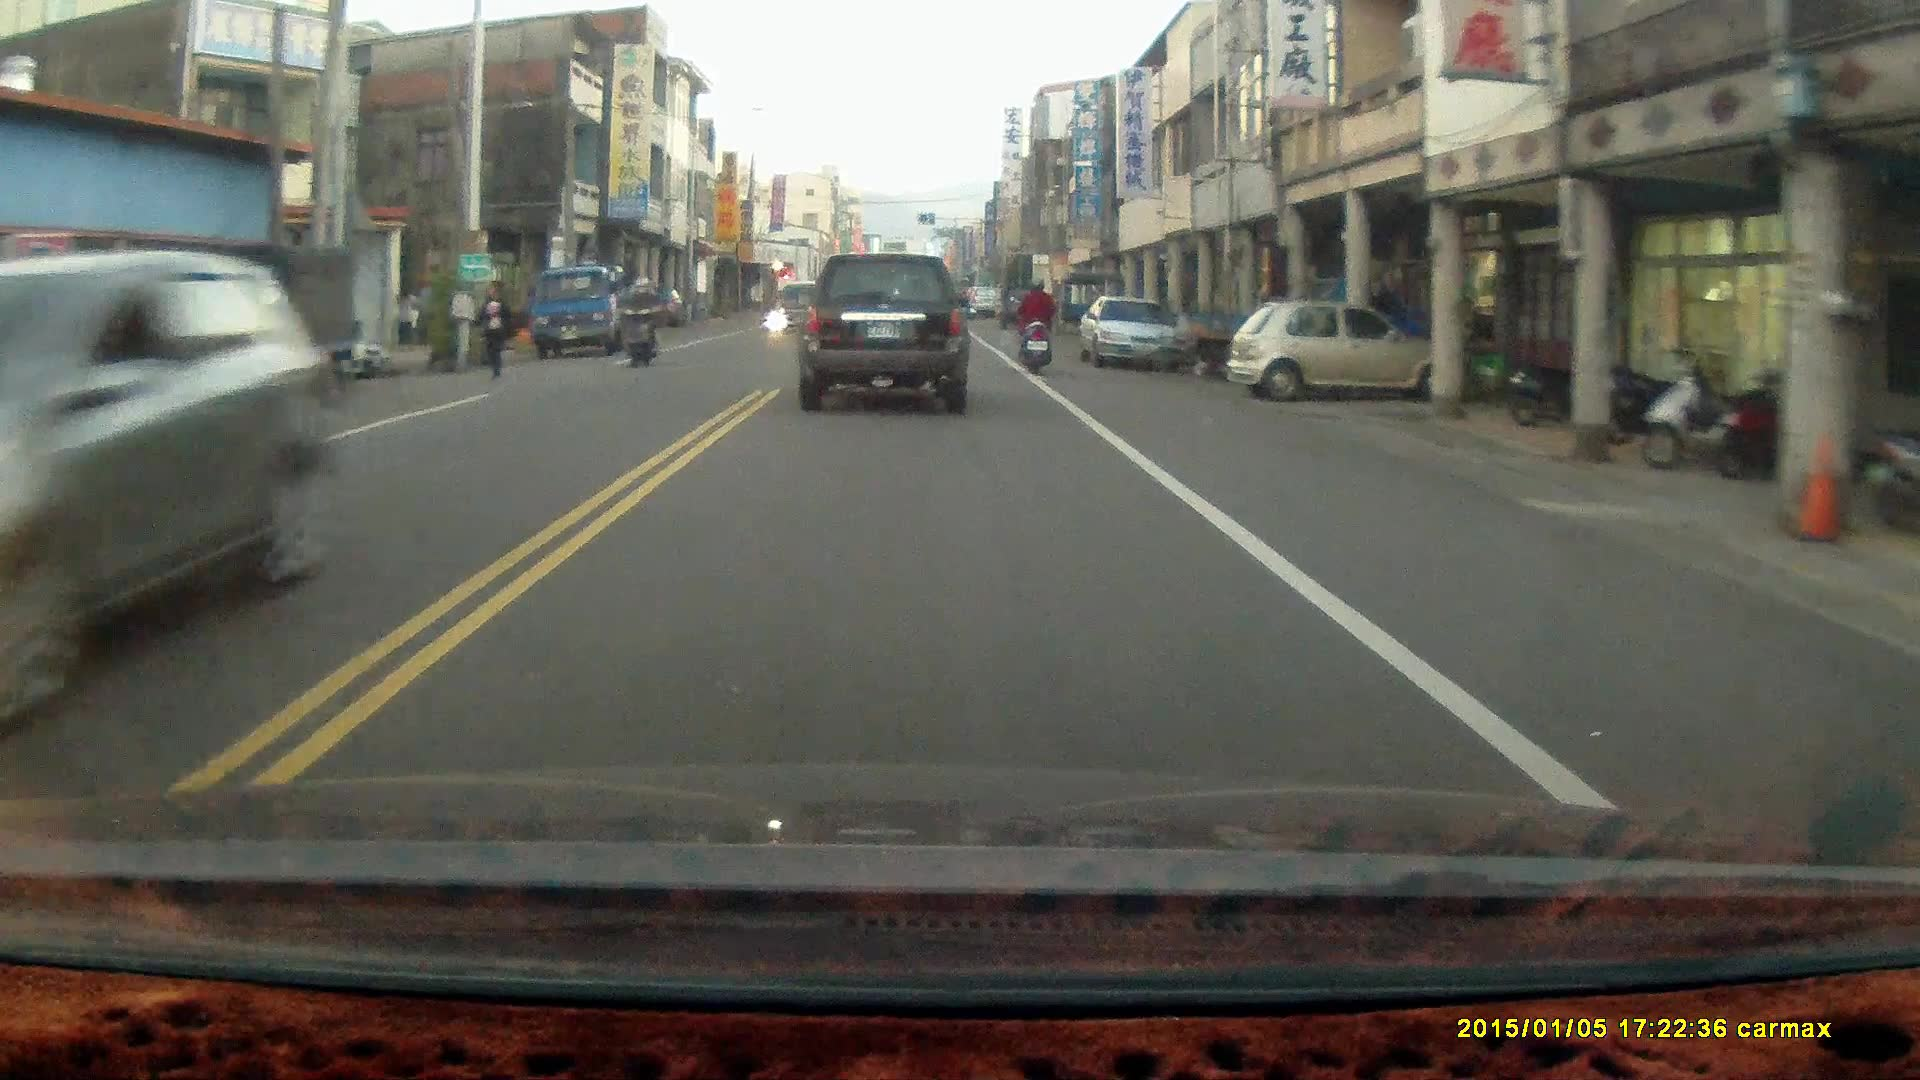pedestrian: (477, 278, 517, 381)
rider: (616, 275, 663, 367), (1015, 274, 1054, 372)
vehicle: (1, 251, 345, 692), (794, 250, 973, 418), (1231, 300, 1464, 402), (534, 263, 663, 359), (1080, 298, 1184, 374)
